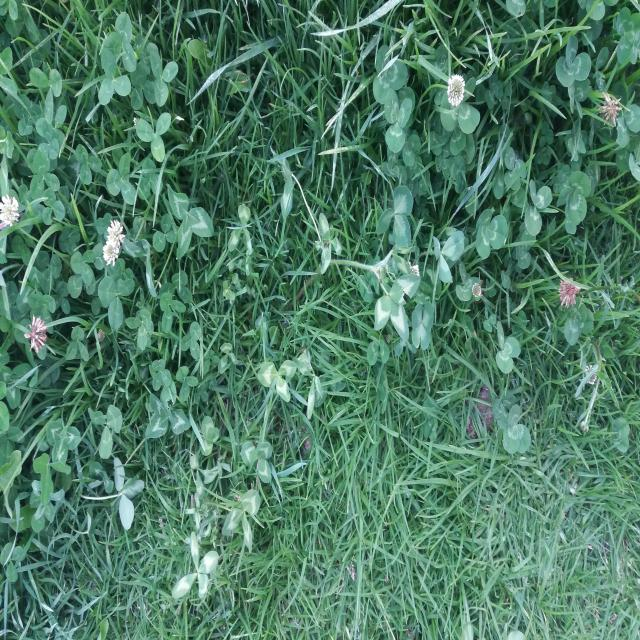Four Leaf Clover: (172, 532, 219, 599), (344, 302, 387, 363)
